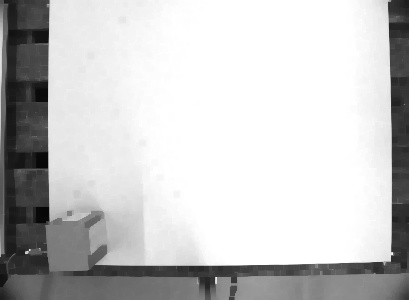b5: (43, 209, 109, 274)
